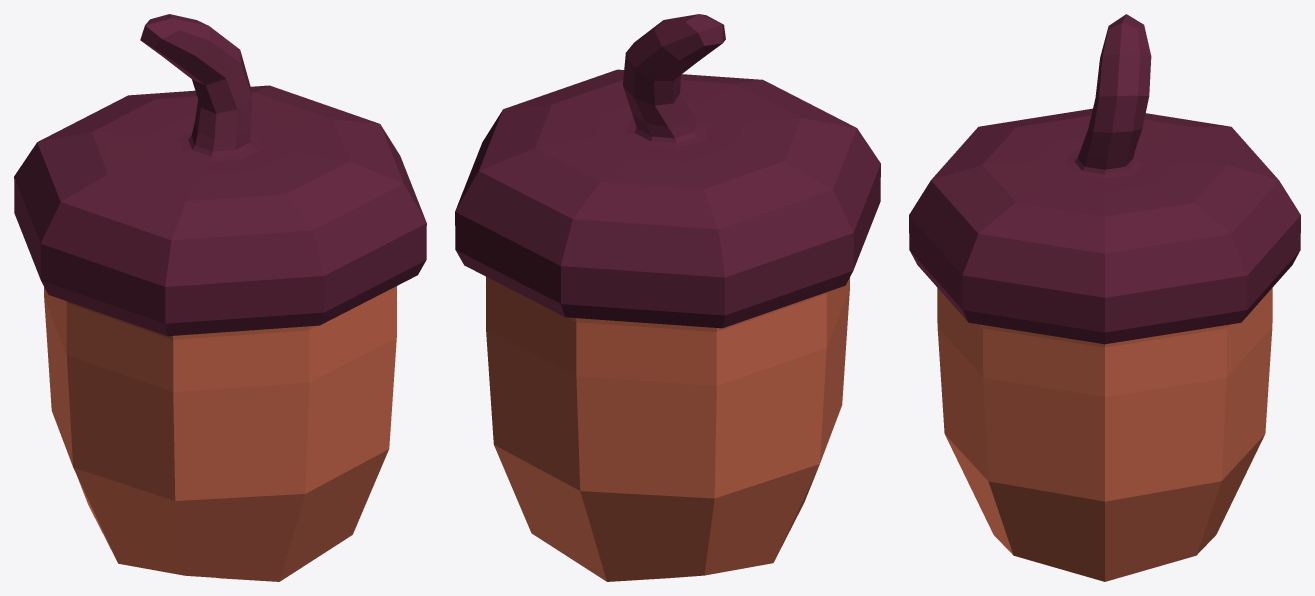
Rendered from acorn.fbx.
The picture shows the model from 3 angles, left to right: view 1: azimuth 30°, elevation 25°; view 2: azimuth 150°, elevation 25°; view 3: azimuth 270°, elevation 25°; orthographic projection. The views are drawn at different scales.
Parts seen in each view (by area): view 1: Cube.001; view 2: Cube.001; view 3: Cube.001.
Part boxes in pixels (x1,y1,x2,y2): Cube.001: (14,14,426,581); Cube.001: (455,14,880,581); Cube.001: (909,14,1300,581).
Size of the model in its own units: 215 by 321 by 215.
